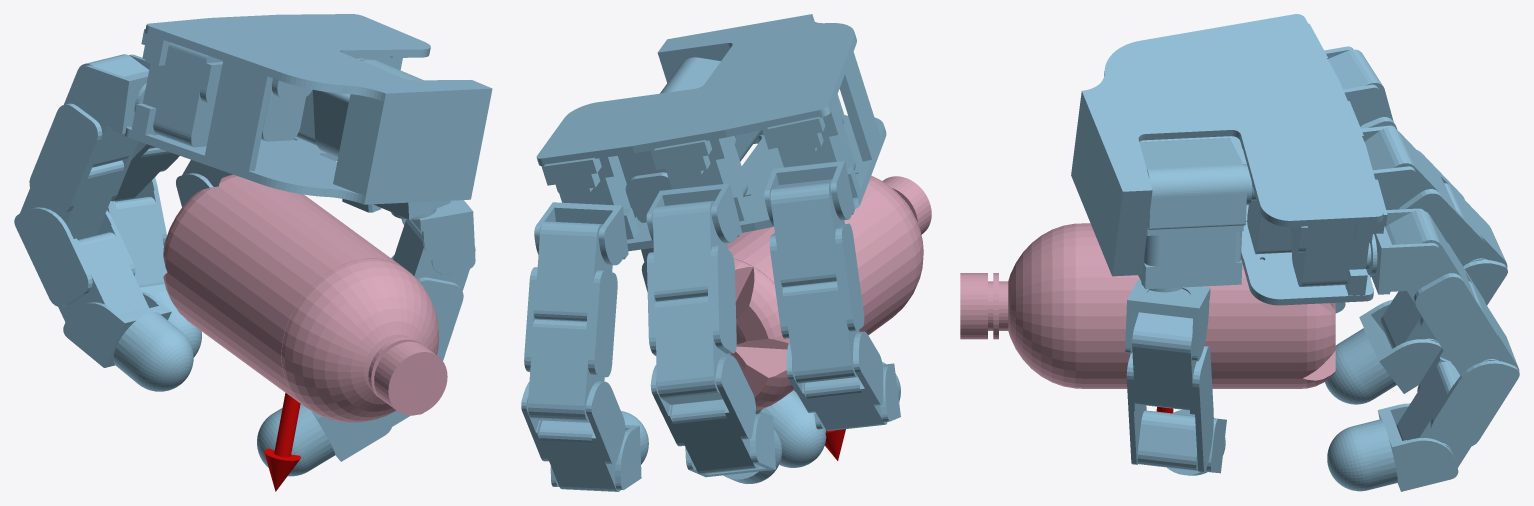
3 views of the same model, side by side, from view 1: azimuth 30°, elevation 25°; view 2: azimuth 150°, elevation 25°; view 3: azimuth 270°, elevation 25° (orthographic). The views are drawn at different scales.
Visible parts, largest first — view 1: world, water_bottle.stl; view 2: world, water_bottle.stl; view 3: world, water_bottle.stl.
Boxes of the visible parts, left/top/right/bottom form: world: left=14, top=14, right=492, bottom=491; water_bottle.stl: left=163, top=174, right=447, bottom=422; world: left=521, top=14, right=900, bottom=491; water_bottle.stl: left=727, top=175, right=931, bottom=410; world: left=1071, top=14, right=1519, bottom=491; water_bottle.stl: left=960, top=223, right=1335, bottom=388.
Size of the model in its own units: 0.1453 by 0.1672 by 0.2033.
